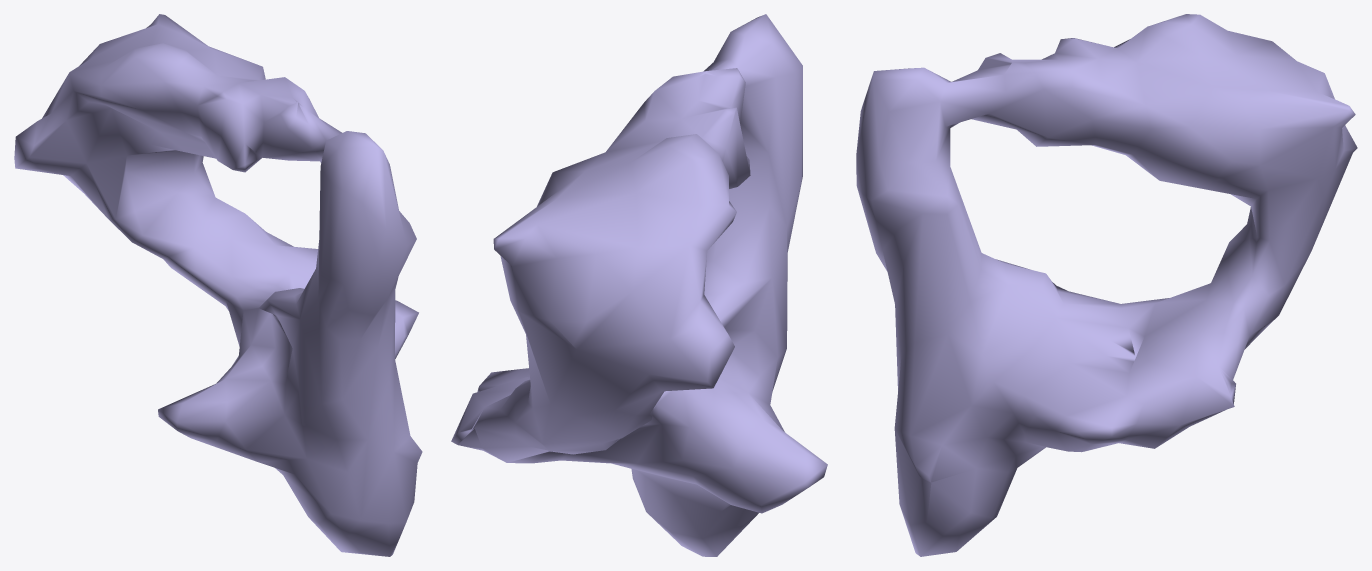
The model's file is MigrationRock5.fbx.
The picture shows the model from 3 angles, left to right: view 1: azimuth 30°, elevation 25°; view 2: azimuth 150°, elevation 25°; view 3: azimuth 270°, elevation 25°; orthographic projection. The views are drawn at different scales.
Visible parts, largest first — view 1: WeirdRocks.004; view 2: WeirdRocks.004; view 3: WeirdRocks.004.
Boxes of the visible parts, <box> form: WeirdRocks.004: <box>14,14,422,556</box>; WeirdRocks.004: <box>451,14,827,556</box>; WeirdRocks.004: <box>856,14,1357,556</box>.
Size of the model in its own units: 4043 by 5793 by 5480.
